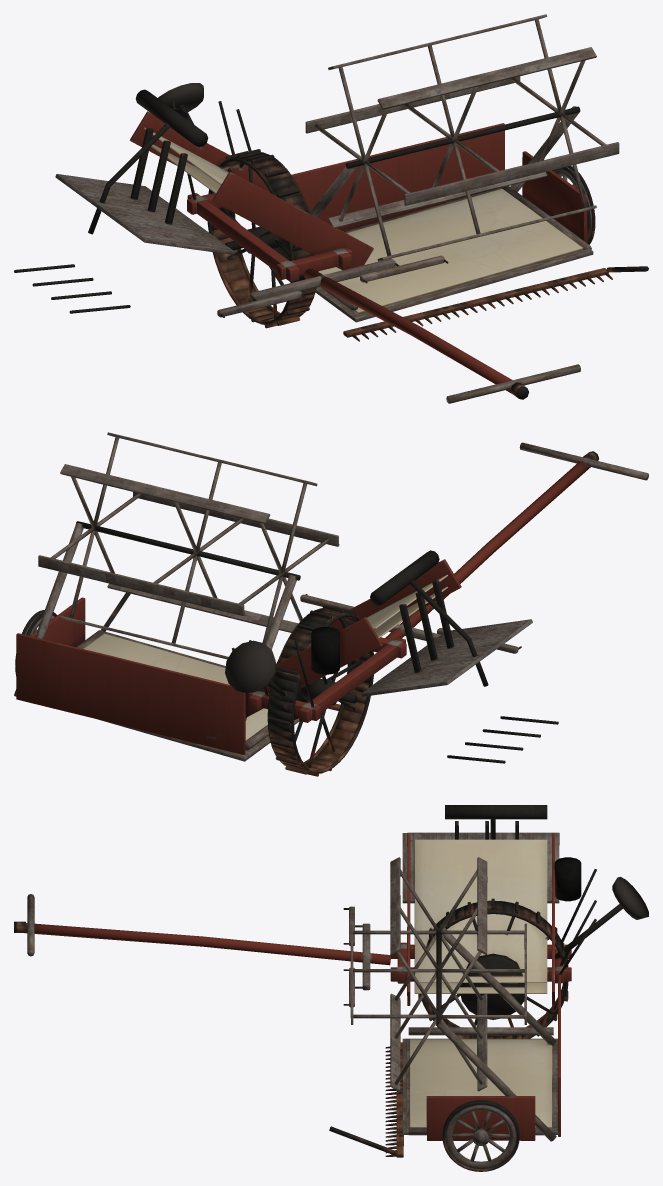
The model's file is implement_binder.glb.
The picture shows the model from 3 angles, top to bottom: view 1: azimuth 30°, elevation 25°; view 2: azimuth 150°, elevation 25°; view 3: azimuth 270°, elevation 25°; orthographic projection. The views are drawn at different scales.
Visible parts, largest first — view 1: Body_LOD0, Reel_geo_LOD0, Wheel_bull_geo_LOD0, Wheel_grain_geo_LOD0; view 2: Body_LOD0, Reel_geo_LOD0, Wheel_bull_geo_LOD0; view 3: Body_LOD0, Reel_geo_LOD0, Wheel_grain_geo_LOD0, Wheel_bull_geo_LOD0.
Part boxes in pixels (x1,y1,x2,y2): Body_LOD0: [14, 83, 648, 403]; Reel_geo_LOD0: [305, 14, 619, 261]; Wheel_bull_geo_LOD0: [207, 149, 318, 328]; Wheel_grain_geo_LOD0: [552, 166, 595, 244]; Body_LOD0: [14, 442, 648, 763]; Reel_geo_LOD0: [38, 432, 339, 659]; Wheel_bull_geo_LOD0: [267, 605, 373, 776]; Body_LOD0: [14, 805, 648, 1157]; Reel_geo_LOD0: [350, 857, 526, 1091]; Wheel_grain_geo_LOD0: [442, 1100, 519, 1171]; Wheel_bull_geo_LOD0: [418, 898, 568, 1038].
Size of what is drawn, in the model's own units: 4.44 by 1.96 by 5.26.
1 material, 1 textured.
